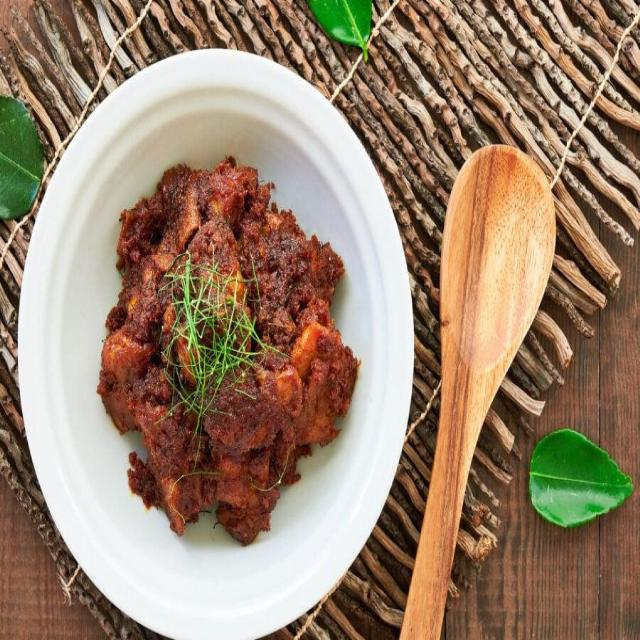Rendang: (105, 143, 351, 557)
